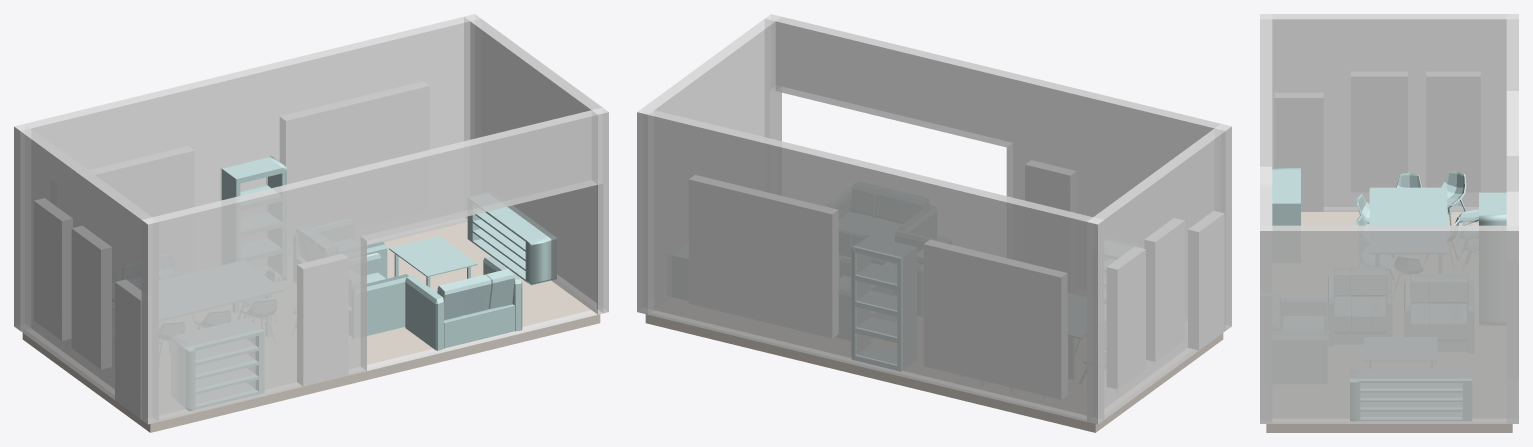
File: room.glb
3 renders of one model, left to right at view 1: azimuth 30°, elevation 25°; view 2: azimuth 150°, elevation 25°; view 3: azimuth 270°, elevation 25°, orthographic. The views are drawn at different scales.
Visible parts, largest first — view 1: wall_9835E2F3_BCF1_4189_91BC_0BCC4244667A, wall_084B54EC_FFDA_4E2B_9660_75F373AC1E8E, wall_DA09256D_2377_47D5_B65B_97EC82664892, wall_18583EBC_8D8A_4176_82B8_94D919BF01C6, floor_EAC4881B_10A6_406D_9B52_EC8B1653631D, window_A60AF547_73DE_4687_951B_9BC931D6EAE9, Room_2_living_room, door_isOpen__true__79451F3B_EE82_4C19_97A7_383BA273F42B, window_23475C06_16C0_40EC_94D9_B02E12A4E19D, Interiors.014, window_0DF277A4_D477_4F66_BF2D_81A18DE8544C, window_08ECBB22_4C82_42A9_A293_5AC881DE87A0 (+5 smaller); view 2: wall_084B54EC_FFDA_4E2B_9660_75F373AC1E8E, wall_9835E2F3_BCF1_4189_91BC_0BCC4244667A, wall_DA09256D_2377_47D5_B65B_97EC82664892, window_A60AF547_73DE_4687_951B_9BC931D6EAE9, window_0DF277A4_D477_4F66_BF2D_81A18DE8544C, wall_18583EBC_8D8A_4176_82B8_94D919BF01C6, floor_EAC4881B_10A6_406D_9B52_EC8B1653631D, window_23475C06_16C0_40EC_94D9_B02E12A4E19D, window_08ECBB22_4C82_42A9_A293_5AC881DE87A0, door_isOpen__true__FCD4299F_2E53_474F_933C_E60ED6FB700E, Interiors.011, door_isOpen__true__79451F3B_EE82_4C19_97A7_383BA273F42B; view 3: wall_18583EBC_8D8A_4176_82B8_94D919BF01C6, wall_DA09256D_2377_47D5_B65B_97EC82664892, window_08ECBB22_4C82_42A9_A293_5AC881DE87A0, window_23475C06_16C0_40EC_94D9_B02E12A4E19D, wall_084B54EC_FFDA_4E2B_9660_75F373AC1E8E, wall_9835E2F3_BCF1_4189_91BC_0BCC4244667A, door_isOpen__true__FCD4299F_2E53_474F_933C_E60ED6FB700E, floor_EAC4881B_10A6_406D_9B52_EC8B1653631D, Interiors.014, Interiors.009, Interiors.012, Interiors.011 (+6 smaller).
Boxes of the visible parts, box(x1,y1,x2,y2) form: wall_9835E2F3_BCF1_4189_91BC_0BCC4244667A: box(142, 107, 608, 424); wall_084B54EC_FFDA_4E2B_9660_75F373AC1E8E: box(14, 14, 480, 330); wall_DA09256D_2377_47D5_B65B_97EC82664892: box(14, 124, 158, 423); wall_18583EBC_8D8A_4176_82B8_94D919BF01C6: box(464, 14, 608, 314); floor_EAC4881B_10A6_406D_9B52_EC8B1653631D: box(22, 222, 600, 432); window_A60AF547_73DE_4687_951B_9BC931D6EAE9: box(280, 81, 429, 184); Room_2_living_room: box(405, 257, 522, 350); door_isOpen__true__79451F3B_EE82_4C19_97A7_383BA273F42B: box(297, 254, 348, 386); window_23475C06_16C0_40EC_94D9_B02E12A4E19D: box(34, 199, 72, 340); Interiors.014: box(467, 205, 556, 285); window_0DF277A4_D477_4F66_BF2D_81A18DE8544C: box(89, 146, 194, 216); window_08ECBB22_4C82_42A9_A293_5AC881DE87A0: box(71, 226, 111, 369); wall_084B54EC_FFDA_4E2B_9660_75F373AC1E8E: box(637, 108, 1104, 424); wall_9835E2F3_BCF1_4189_91BC_0BCC4244667A: box(765, 14, 1231, 330); wall_DA09256D_2377_47D5_B65B_97EC82664892: box(1087, 124, 1231, 424); window_A60AF547_73DE_4687_951B_9BC931D6EAE9: box(688, 175, 838, 338); window_0DF277A4_D477_4F66_BF2D_81A18DE8544C: box(923, 239, 1067, 399); wall_18583EBC_8D8A_4176_82B8_94D919BF01C6: box(637, 14, 781, 314); floor_EAC4881B_10A6_406D_9B52_EC8B1653631D: box(645, 314, 1223, 432); window_23475C06_16C0_40EC_94D9_B02E12A4E19D: box(1107, 247, 1145, 389); window_08ECBB22_4C82_42A9_A293_5AC881DE87A0: box(1144, 218, 1184, 361); door_isOpen__true__FCD4299F_2E53_474F_933C_E60ED6FB700E: box(1188, 211, 1224, 350); Interiors.011: box(851, 245, 902, 371); door_isOpen__true__79451F3B_EE82_4C19_97A7_383BA273F42B: box(1025, 160, 1076, 212); wall_18583EBC_8D8A_4176_82B8_94D919BF01C6: box(1260, 225, 1518, 423); wall_DA09256D_2377_47D5_B65B_97EC82664892: box(1260, 14, 1518, 211); window_08ECBB22_4C82_42A9_A293_5AC881DE87A0: box(1350, 72, 1407, 192); window_23475C06_16C0_40EC_94D9_B02E12A4E19D: box(1426, 72, 1480, 192); wall_084B54EC_FFDA_4E2B_9660_75F373AC1E8E: box(1506, 14, 1518, 423); wall_9835E2F3_BCF1_4189_91BC_0BCC4244667A: box(1260, 14, 1272, 423); door_isOpen__true__FCD4299F_2E53_474F_933C_E60ED6FB700E: box(1274, 93, 1323, 211); floor_EAC4881B_10A6_406D_9B52_EC8B1653631D: box(1266, 212, 1512, 432); Interiors.014: box(1350, 378, 1471, 420); Interiors.009: box(1369, 187, 1447, 225); Interiors.012: box(1272, 168, 1300, 225); Interiors.011: box(1479, 192, 1506, 225).
Size of the model in its own units: 8.38 by 3.68 by 4.22.
